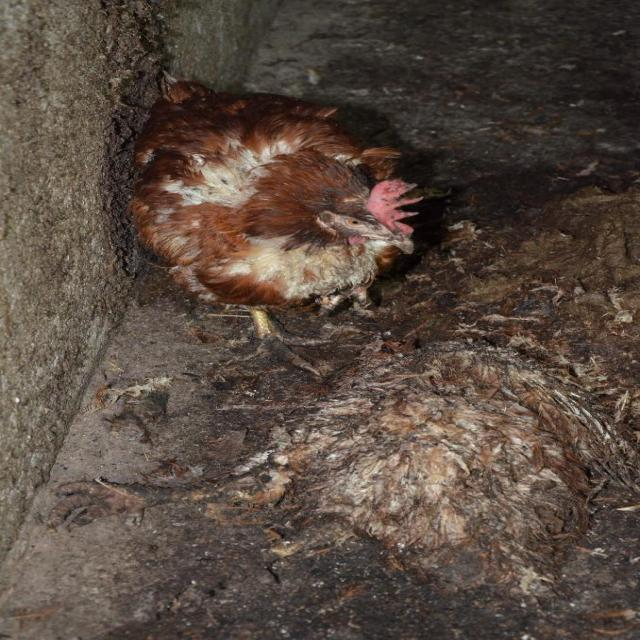Chicken: (130, 66, 403, 373)
